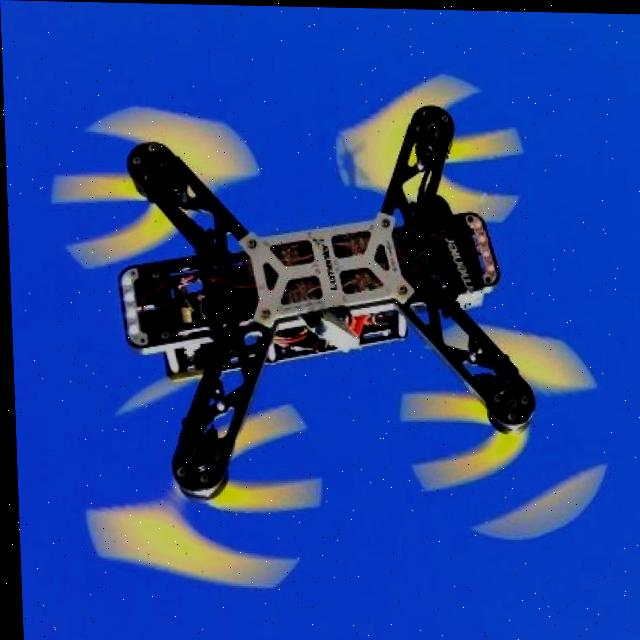drone: (27, 87, 617, 560)
